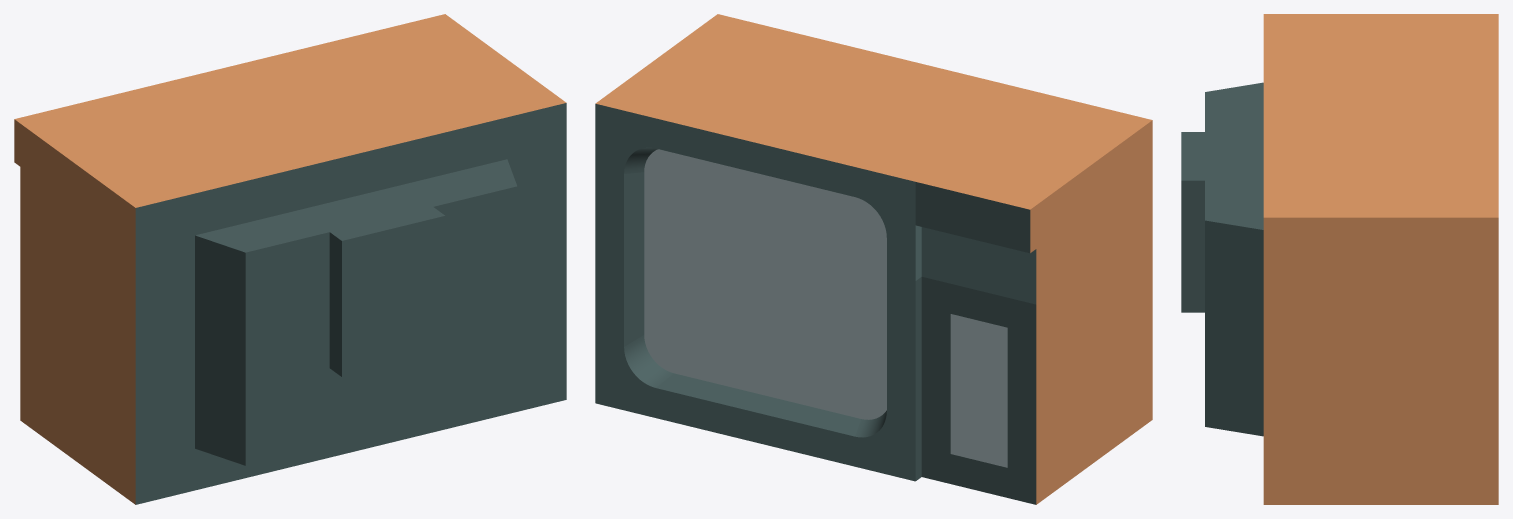
The model's file is device-tv.glb.
3 renders of one model, left to right at view 1: azimuth 30°, elevation 25°; view 2: azimuth 150°, elevation 25°; view 3: azimuth 270°, elevation 25°, orthographic. The views are drawn at different scales.
Visible parts, largest first — view 1: televisionVintage; view 2: televisionVintage; view 3: televisionVintage.
Part boxes in pixels (<box>): televisionVintage: <box>14,14,566,504</box>; televisionVintage: <box>595,14,1152,504</box>; televisionVintage: <box>1181,14,1498,504</box>.
Bounding box in the file's own units: 0.7923 × 0.5217 × 0.5217.
